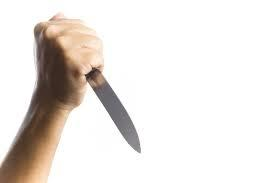Knife: (0, 12, 105, 183), (34, 12, 105, 108), (89, 70, 140, 153)
